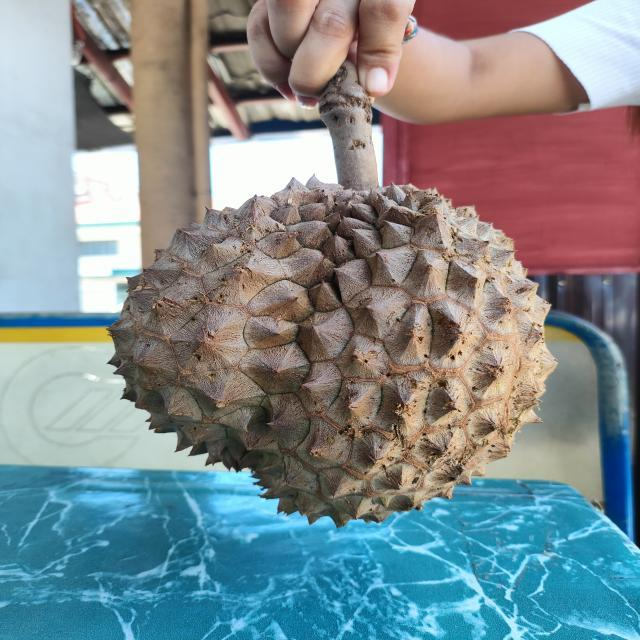mature: (105, 177, 553, 526)
